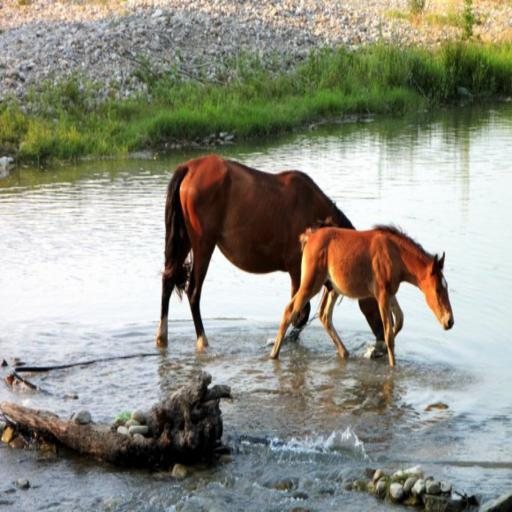Horse: (157, 152, 396, 349), (271, 215, 453, 367)
